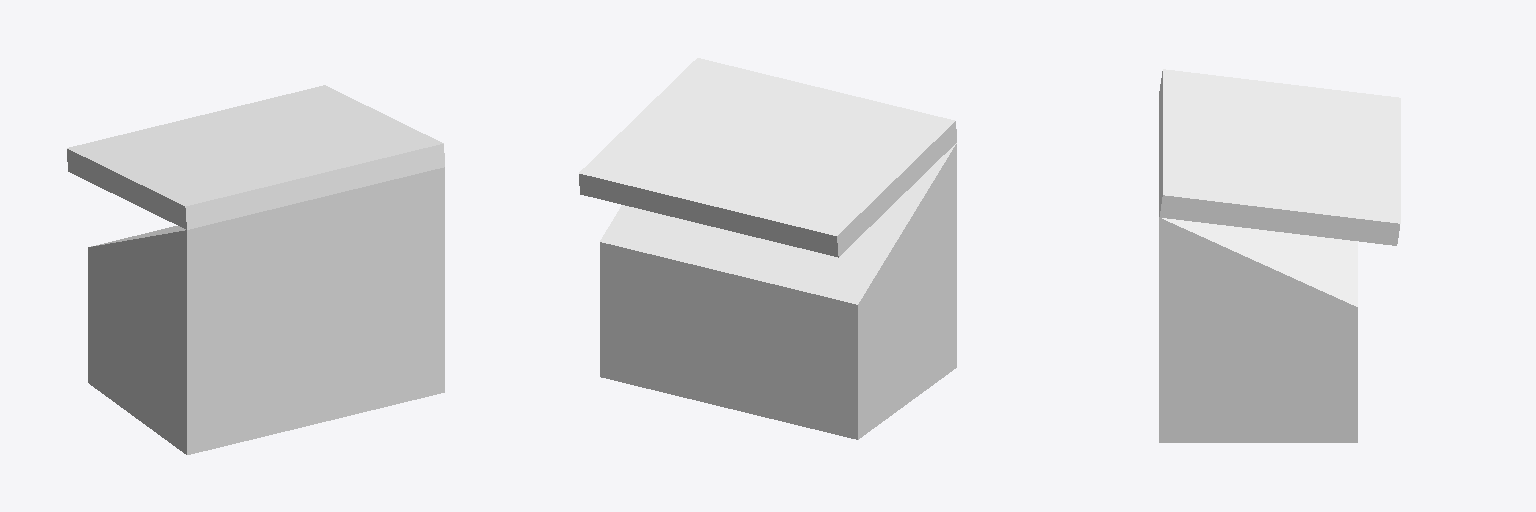
Rendered from detail-dumpster-open.obj.
3 renders of one model, left to right at view 1: azimuth 30°, elevation 25°; view 2: azimuth 150°, elevation 25°; view 3: azimuth 270°, elevation 25°, orthographic.
Visible parts, largest first — view 1: detail-dumpster-open; view 2: detail-dumpster-open; view 3: detail-dumpster-open.
Boxes of the visible parts, x1,y1,x2,y2 form: detail-dumpster-open: [67, 85, 444, 454]; detail-dumpster-open: [579, 58, 956, 439]; detail-dumpster-open: [1159, 69, 1400, 442].
Bounding box in the file's own units: 0.6 × 0.5496 × 0.4846.